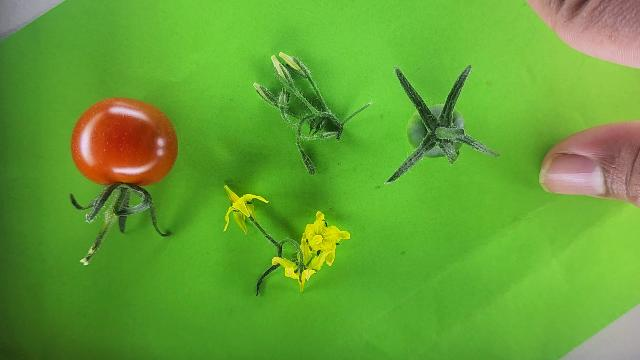Anthesis: (301, 211, 351, 273), (221, 185, 269, 236), (273, 253, 315, 294)
Flower Bud: (279, 53, 302, 72), (254, 84, 272, 103), (271, 55, 283, 73), (278, 66, 285, 79)
Fruit Maturation: (405, 105, 463, 158)
Fully Grown: (69, 96, 180, 188)
